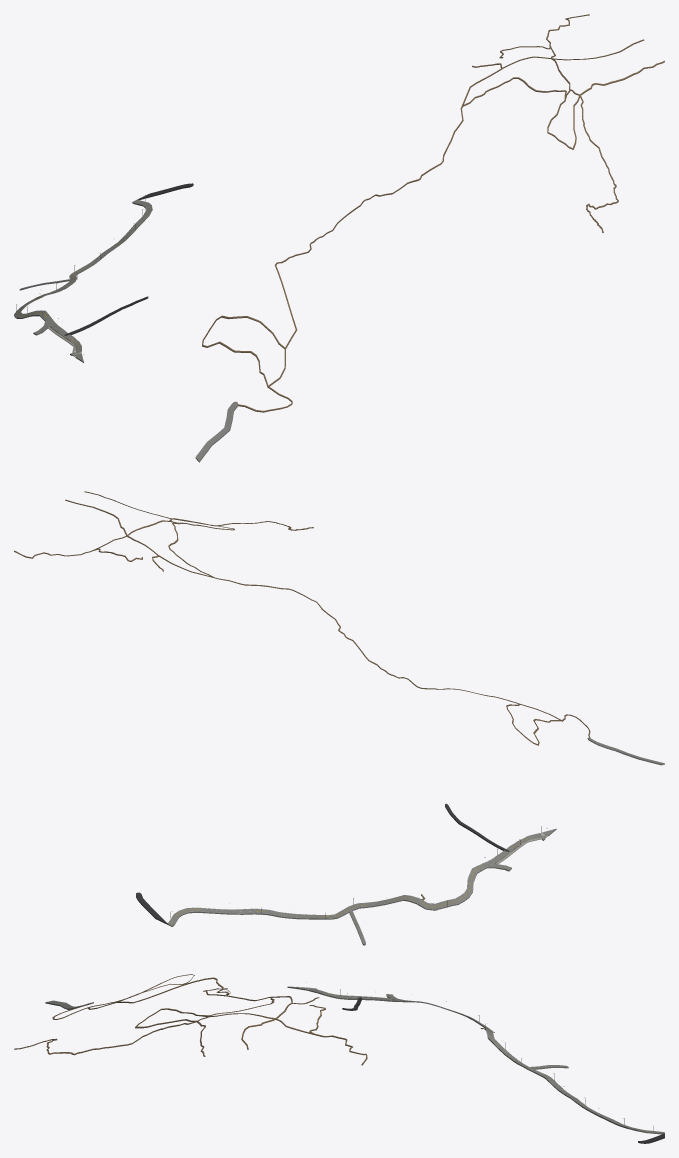
3 views of the same model, one above another, from view 1: azimuth 30°, elevation 25°; view 2: azimuth 150°, elevation 25°; view 3: azimuth 270°, elevation 25° (orthographic). The views are drawn at different scales.
Bounding box in the file's own units: 587 × 256 × 583.
